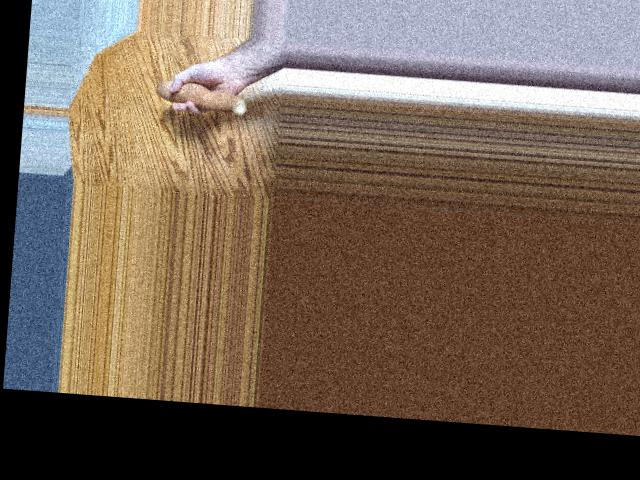sweet_potato: (148, 74, 251, 113)
